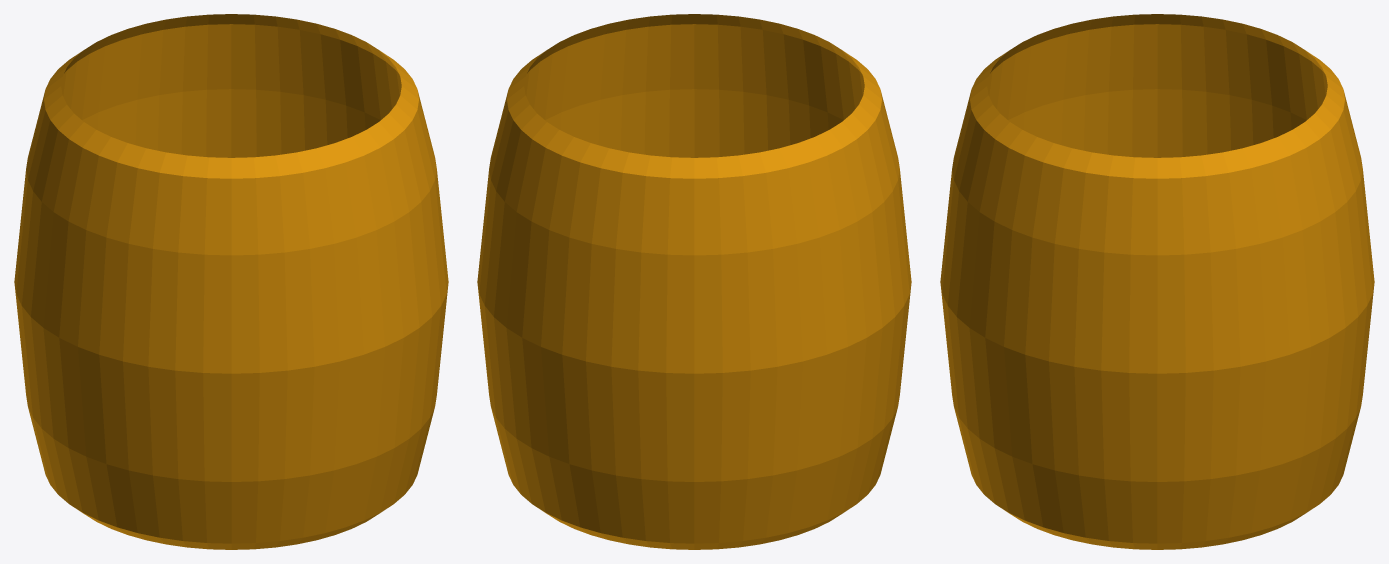
Rendered from Latern.fbx.
3 views of the same model, side by side, from view 1: azimuth 30°, elevation 25°; view 2: azimuth 150°, elevation 25°; view 3: azimuth 270°, elevation 25° (orthographic).
Parts seen in each view (by area): view 1: Paper; view 2: Paper; view 3: Paper.
Boxes of the visible parts, left/top/right/bottom form: Paper: left=14, top=14, right=448, bottom=549; Paper: left=477, top=14, right=911, bottom=549; Paper: left=940, top=14, right=1374, bottom=549.
Bounding box in the file's own units: 44.12 × 43.95 × 44.12.
